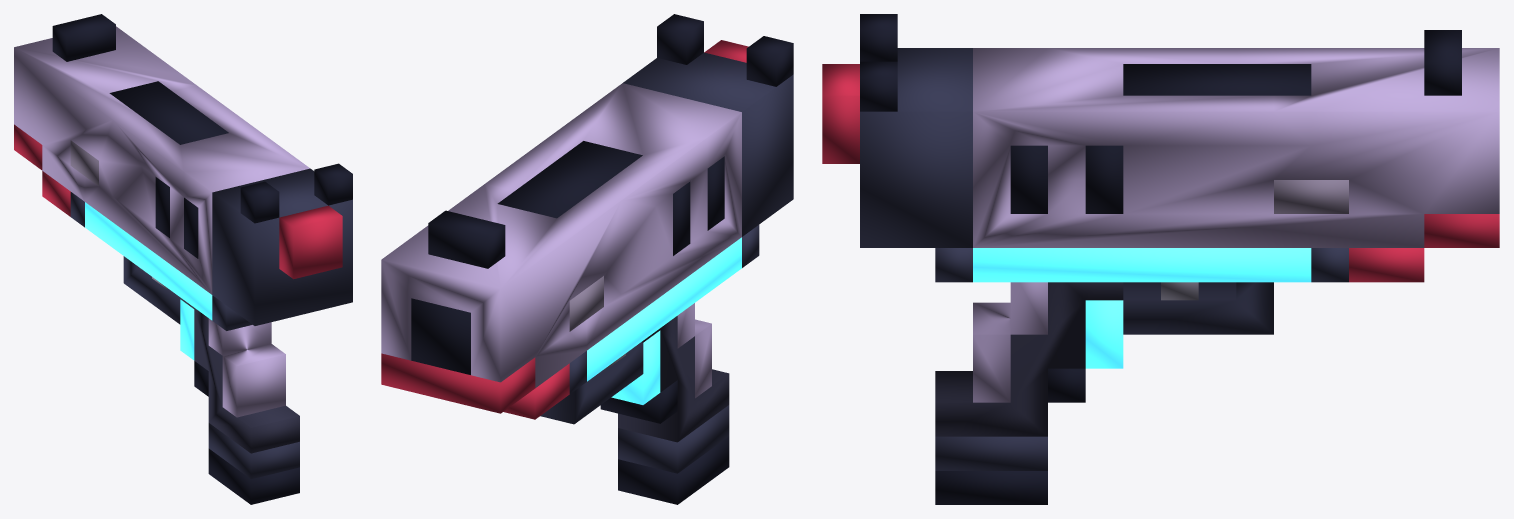
File: pistol.lod1.glb
The picture shows the model from 3 angles, left to right: view 1: azimuth 30°, elevation 25°; view 2: azimuth 150°, elevation 25°; view 3: azimuth 270°, elevation 25°; orthographic projection. The views are drawn at different scales.
Parts seen in each view (by area): view 1: part.slide, pistol.body, part.mag; view 2: part.slide, pistol.body, part.mag; view 3: part.slide, pistol.body, part.mag.
Boxes of the visible parts, x1,y1,x2,y2 form: part.slide: (14,14,352,325); pistol.body: (42,171,299,479); part.mag: (208,448,299,504); part.slide: (381,14,793,413); pistol.body: (503,225,759,473); part.mag: (618,436,729,504); part.slide: (822,14,1499,247); pistol.body: (935,248,1424,470); part.mag: (935,471,1047,504).
Bounding box in the file's own units: 0.125 × 0.4062 × 0.5625.
